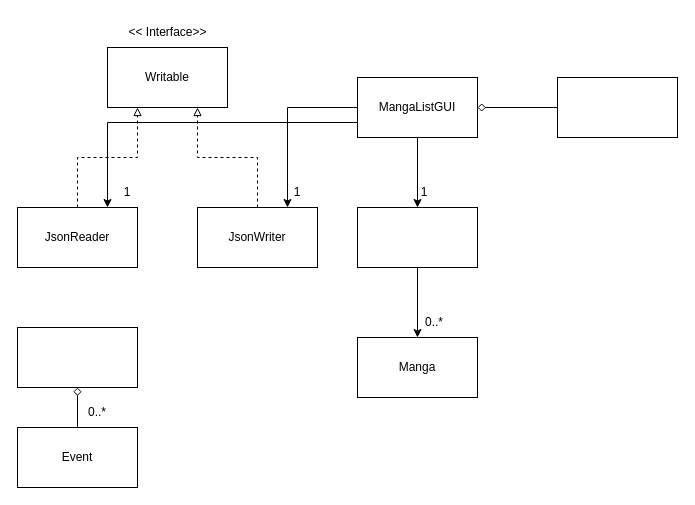
This 695x505 diagram has some shape labels left out. The shapes that lost their labels are listed below. From the top down, each one's box as (x1, y1, x2, y2) in pixels, then its label:
(556, 76, 678, 138): MangaDisplayUI
(356, 206, 478, 268): MyMangaList
(16, 326, 138, 388): EventLog
